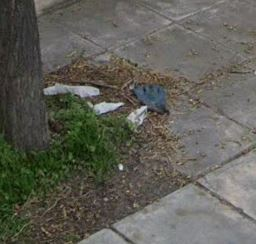trash: (37, 71, 171, 131)
